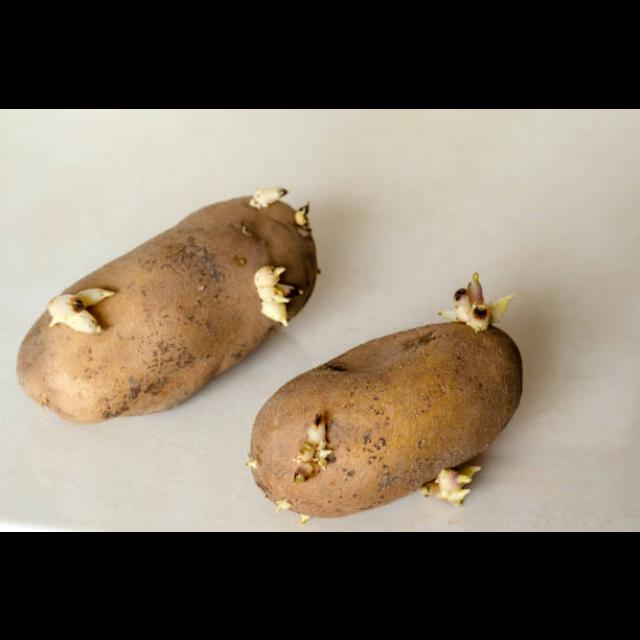Sprouted potato: (12, 176, 346, 430), (242, 284, 538, 530)
